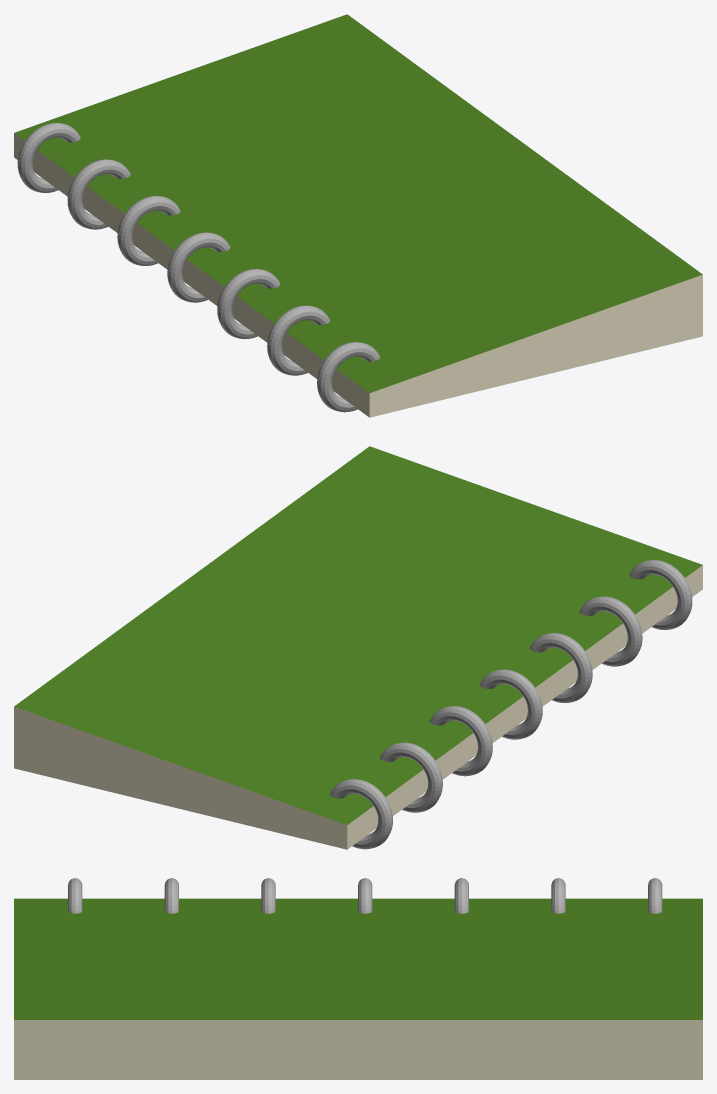
Rendered from zeszyt.fbx.
3 renders of one model, top to bottom at view 1: azimuth 30°, elevation 25°; view 2: azimuth 150°, elevation 25°; view 3: azimuth 270°, elevation 25°, orthographic. The views are drawn at different scales.
Parts seen in each view (by area): view 1: zeszyt; view 2: zeszyt; view 3: zeszyt.
Part boxes in pixels (box(x1,y1,x2,y2)): zeszyt: box(14, 14, 702, 417); zeszyt: box(14, 446, 702, 849); zeszyt: box(14, 878, 702, 1079).
Size of the model in its own units: 123 by 26.9 by 214.
1 material, 1 textured.
